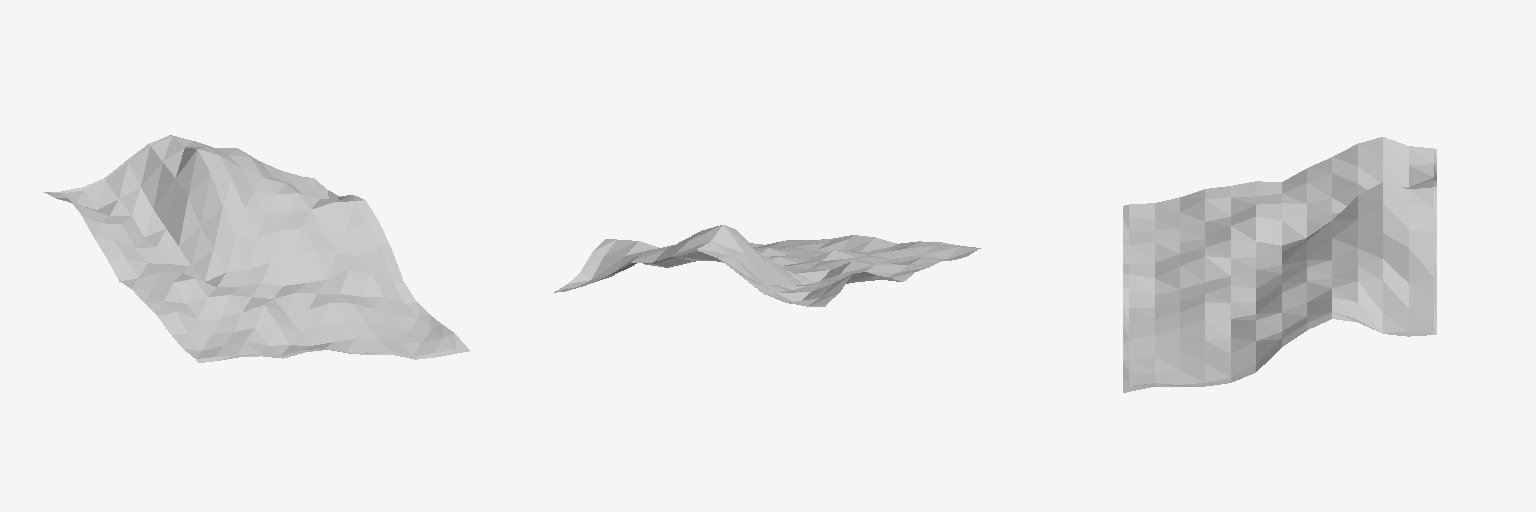
The model's file is Landscape.031.obj.
3 renders of one model, left to right at view 1: azimuth 30°, elevation 25°; view 2: azimuth 150°, elevation 25°; view 3: azimuth 270°, elevation 25°, orthographic.
Visible parts, largest first — view 1: Landscape.031; view 2: Landscape.031; view 3: Landscape.031.
Boxes of the visible parts, <box> form: Landscape.031: <box>44,135,469,362</box>; Landscape.031: <box>554,225,980,306</box>; Landscape.031: <box>1123,137,1436,392</box>.
Bounding box in the file's own units: 32 × 15.92 × 32.